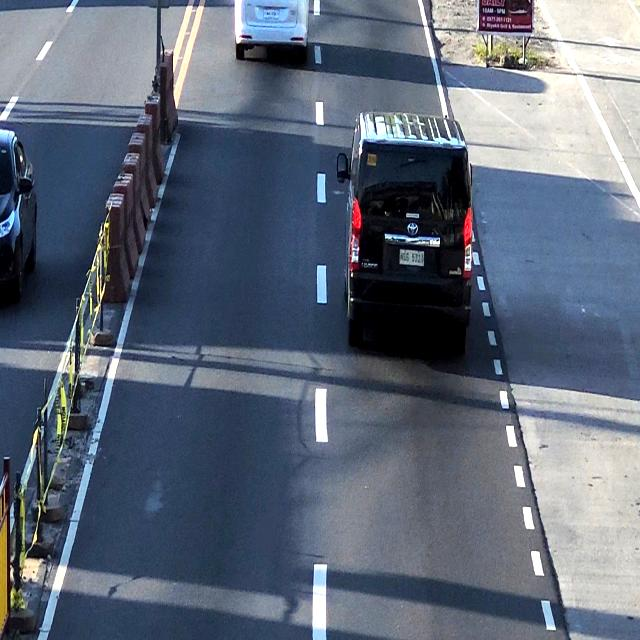Car: (344, 114, 477, 346), (237, 0, 313, 63)
License-Plate: (399, 248, 428, 271), (261, 9, 282, 21)
